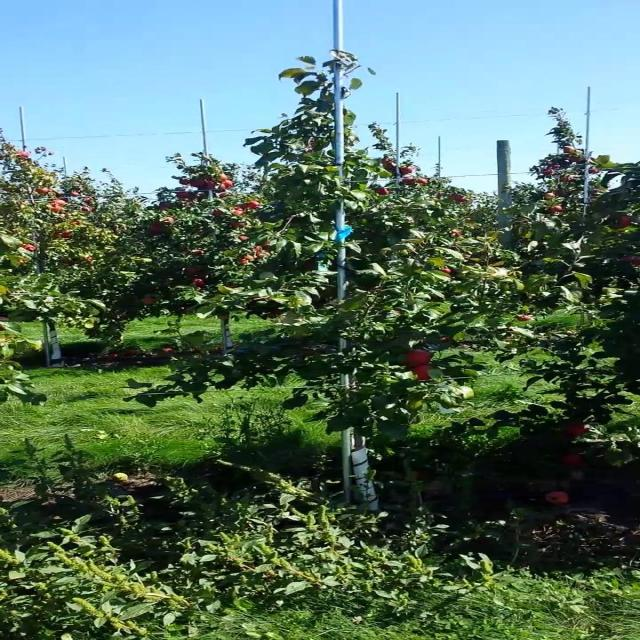apple: (404, 349, 433, 366), (560, 452, 582, 468), (564, 422, 589, 436), (411, 364, 431, 380), (616, 215, 633, 229), (620, 255, 640, 266), (516, 314, 533, 321)
